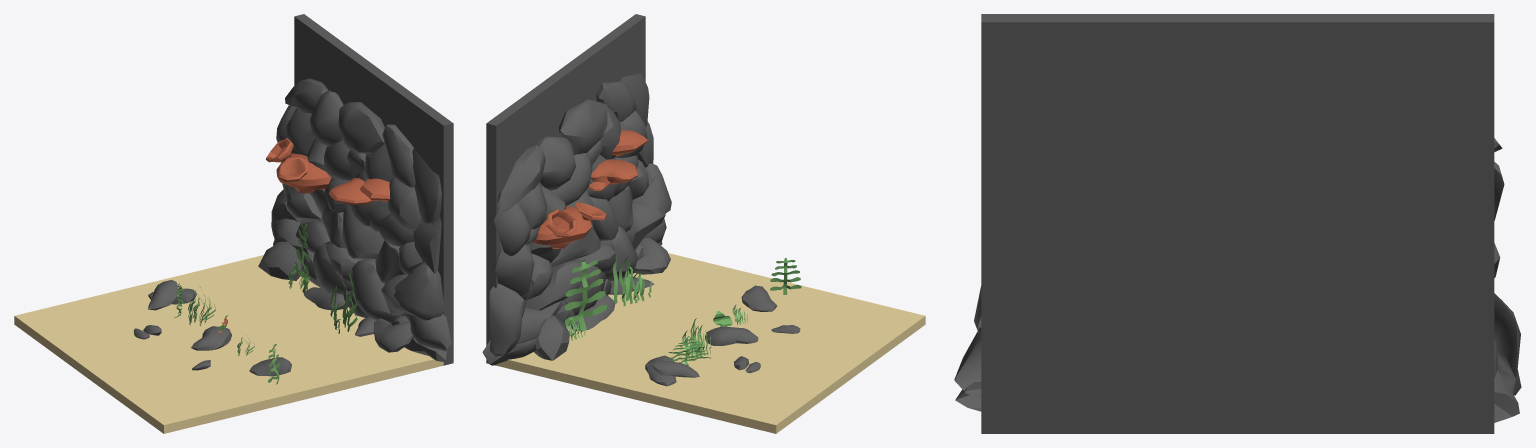
Rendered from SM_Tile_04.fbx.
3 renders of one model, left to right at view 1: azimuth 30°, elevation 25°; view 2: azimuth 150°, elevation 25°; view 3: azimuth 270°, elevation 25°, orthographic. The views are drawn at different scales.
Parts seen in each view (by area): view 1: SM_Tile_04; view 2: SM_Tile_04; view 3: SM_Tile_04.
Boxes of the visible parts, left/top/right/bottom form: SM_Tile_04: left=14, top=14, right=453, bottom=433; SM_Tile_04: left=482, top=14, right=925, bottom=433; SM_Tile_04: left=954, top=14, right=1521, bottom=433.
Size of the model in its own units: 3217 by 2542 by 3173.
